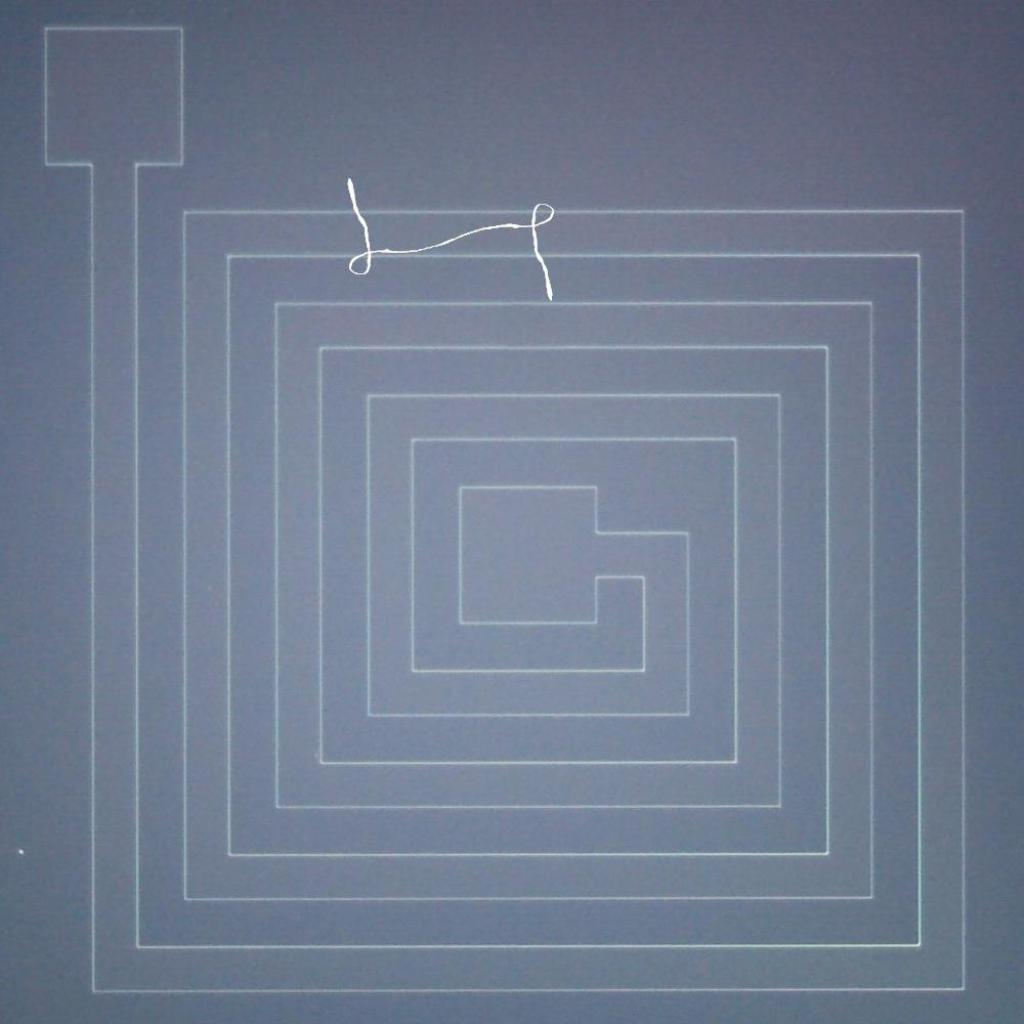dot: (12, 837, 33, 863)
line: (337, 171, 560, 310)
